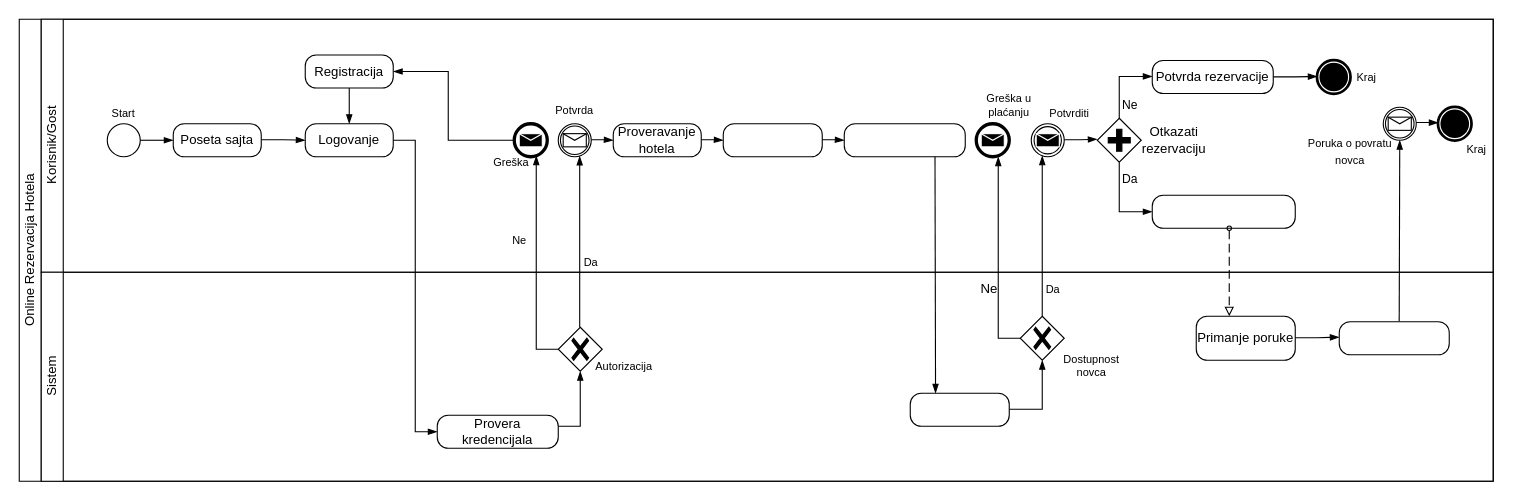
Image size: 1524x501. Some labels were removed from this diagram. The centre of each missing label's shape, as x and y in pixels:
Otkazivanje rezervacije: point 1223,211
Plaćanje kreditnom karticom: point 904,140
Provera statusa o transakciji: point 959,409
Rezervisanje sobe: point 772,140
Vraćanje novca: point 1393,338
